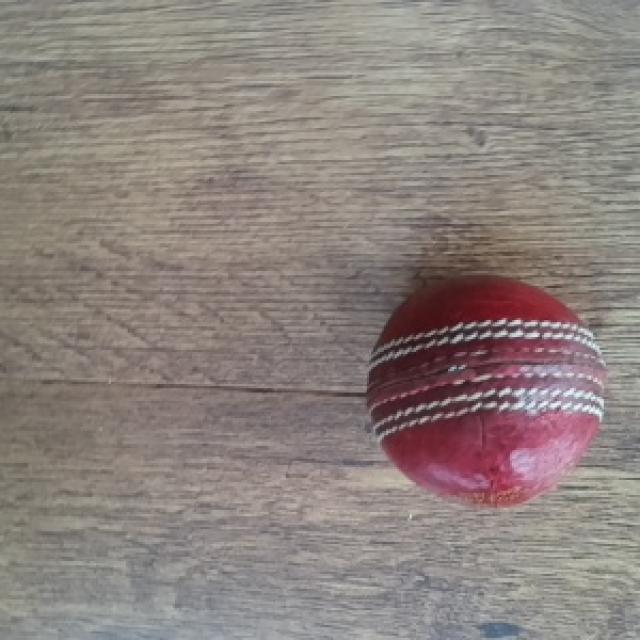ball: (365, 273, 608, 512)
